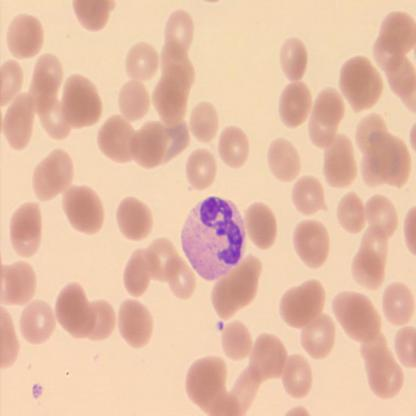Segmented neutrophil: (178, 192, 248, 283)
